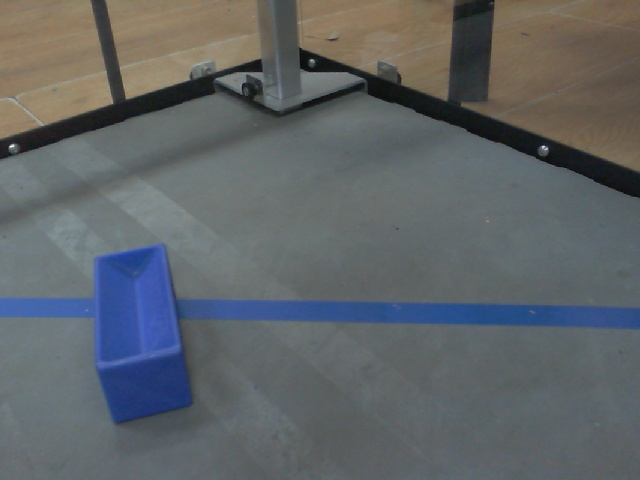BlueSample: (88, 242, 197, 428)
